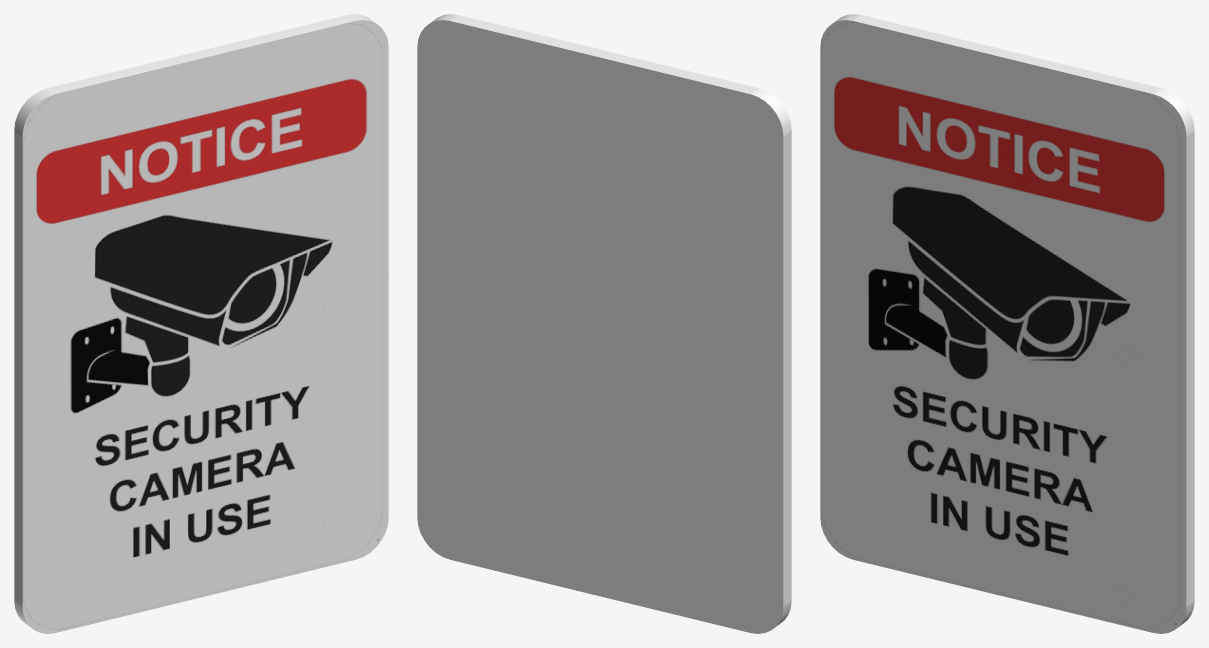
File: Poster 1.fbx
The picture shows the model from 3 angles, left to right: view 1: azimuth 30°, elevation 25°; view 2: azimuth 150°, elevation 25°; view 3: azimuth 330°, elevation 25°; orthographic projection.
Visible parts, largest first — view 1: Poster 1; view 2: Poster 1; view 3: Poster 1.
Part boxes in pixels (left/top/right/bottom): Poster 1: left=14, top=14, right=388, bottom=633; Poster 1: left=417, top=14, right=791, bottom=633; Poster 1: left=820, top=14, right=1194, bottom=633.
Bounding box in the file's own units: 30.7 × 43.16 × 1.2.
Materials: 1 (1 with a texture image).
